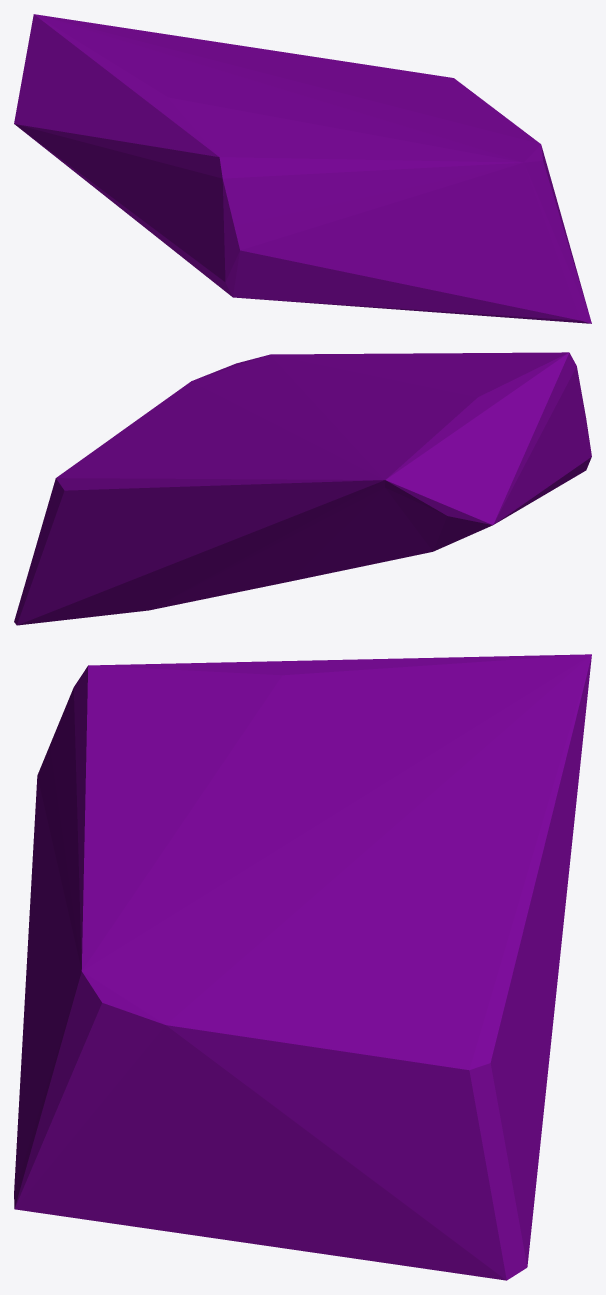
Rendered from PortalStein2.fbx.
3 renders of one model, top to bottom at view 1: azimuth 30°, elevation 25°; view 2: azimuth 150°, elevation 25°; view 3: azimuth 270°, elevation 25°, orthographic. The views are drawn at different scales.
Visible parts, largest first — view 1: s.004; view 2: s.004; view 3: s.004.
Part boxes in pixels (x1=…): s.004: x1=14, y1=14, x2=591, y2=323; s.004: x1=14, y1=352, x2=591, y2=625; s.004: x1=14, y1=654, x2=591, y2=1280.
Size of the model in its own units: 49.25 by 26.53 by 38.77.
